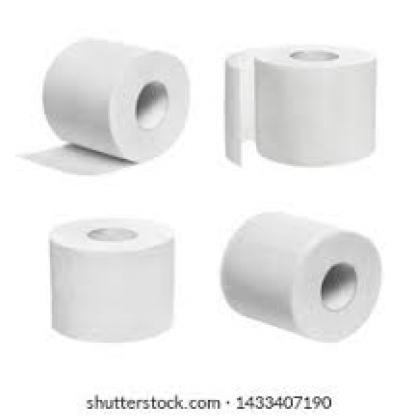tissue: (214, 206, 382, 346), (223, 41, 390, 172), (45, 211, 181, 348)
